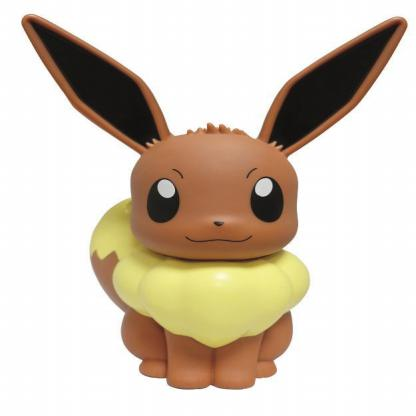Eevee: (1, 1, 416, 406)
